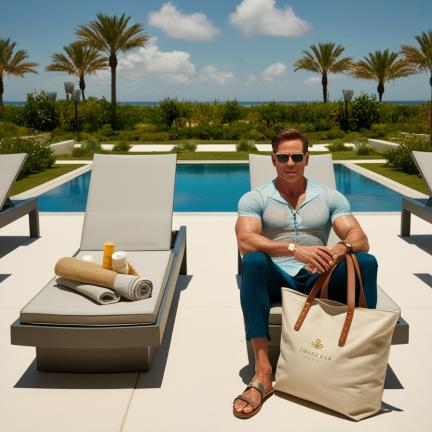guest on chair: (233, 128, 408, 420)
occupied chair: (11, 154, 186, 372)
